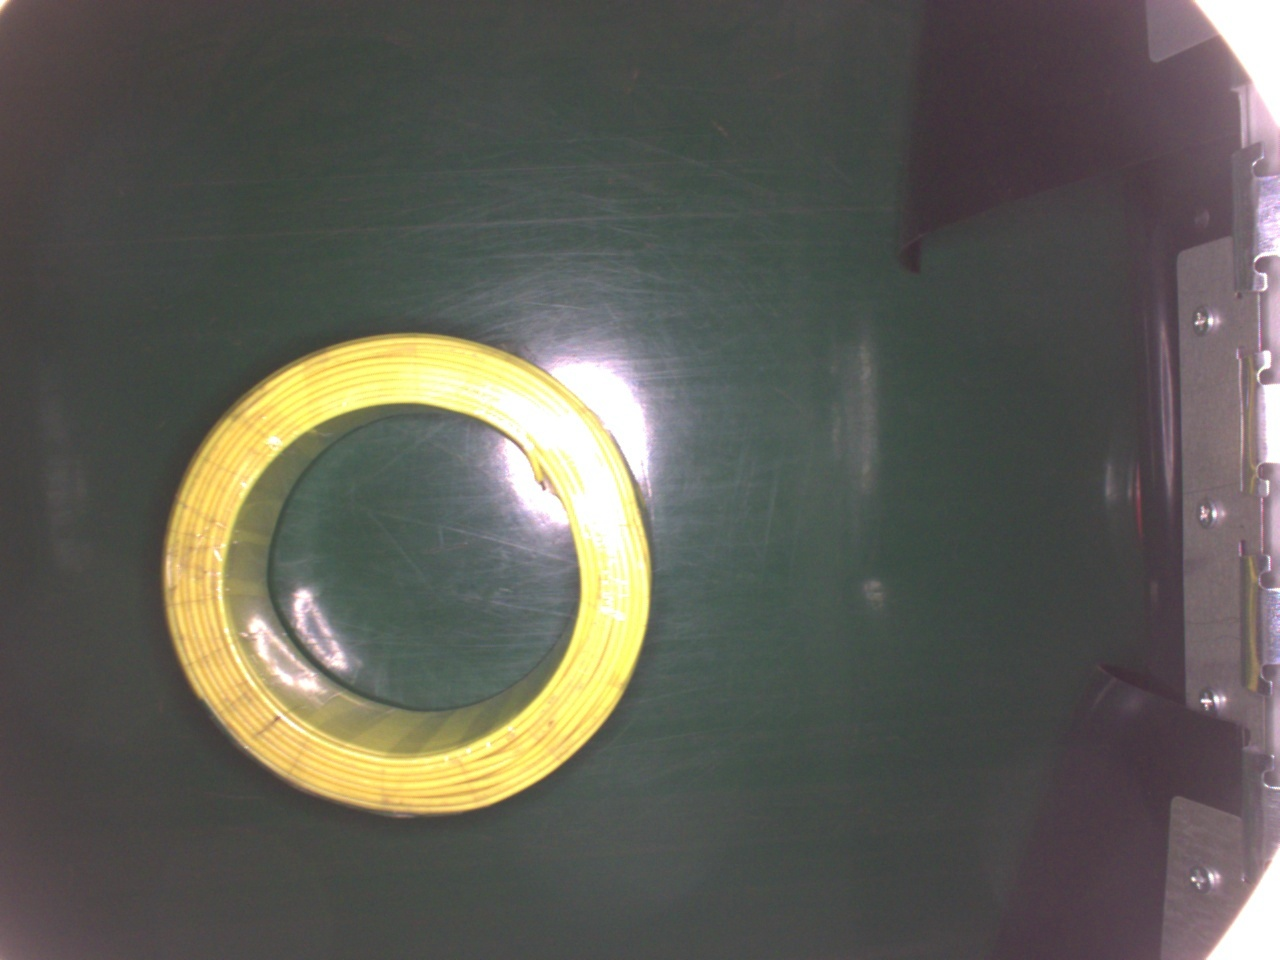yellow: (162, 329, 652, 816)
